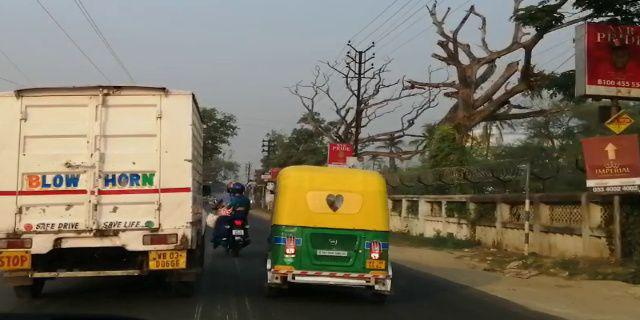Autorickshaw: (259, 159, 396, 304)
Minitruck: (1, 85, 207, 292)
Motorbike: (208, 181, 254, 256)
